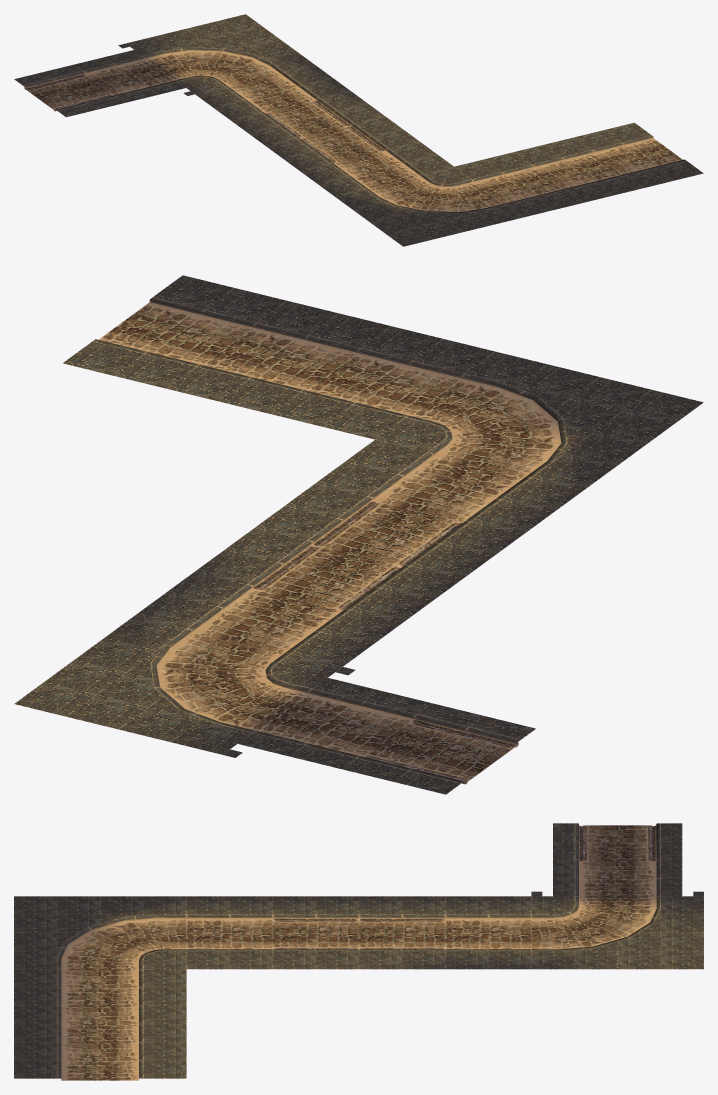
The model's file is M7_Zone3.glb.
3 renders of one model, top to bottom at view 1: azimuth 30°, elevation 25°; view 2: azimuth 150°, elevation 25°; view 3: azimuth 270°, elevation 25°, orthographic. The views are drawn at different scales.
Visible parts, largest first — view 1: M7_ZONE3006, M7_ZONE3004, M7_ZONE3003, M7_ZONE3001, M7_ZONE3, M7_ZONE3005, M7_ZONE3002; view 2: M7_ZONE3, M7_ZONE3003, M7_ZONE3001, M7_ZONE3004, M7_ZONE3006, M7_ZONE3005, M7_ZONE3002; view 3: M7_ZONE3, M7_ZONE3004, M7_ZONE3003, M7_ZONE3006, M7_ZONE3001, M7_ZONE3005, M7_ZONE3002.
Boxes of the visible parts, left/top/right/bottom form: M7_ZONE3006: left=126, top=14, right=314, bottom=94; M7_ZONE3004: left=195, top=65, right=384, bottom=144; M7_ZONE3003: left=264, top=116, right=453, bottom=195; M7_ZONE3001: left=454, top=137, right=643, bottom=217; M7_ZONE3: left=334, top=166, right=523, bottom=246; M7_ZONE3005: left=14, top=43, right=194, bottom=117; M7_ZONE3002: left=575, top=122, right=703, bottom=187; M7_ZONE3: left=375, top=351, right=703, bottom=490; M7_ZONE3003: left=255, top=439, right=583, bottom=578; M7_ZONE3001: left=167, top=300, right=494, bottom=439; M7_ZONE3004: left=134, top=528, right=462, bottom=666; M7_ZONE3006: left=14, top=616, right=342, bottom=754; M7_ZONE3005: left=223, top=667, right=535, bottom=794; M7_ZONE3002: left=63, top=275, right=286, bottom=388; M7_ZONE3: left=14, top=896, right=186, bottom=971; M7_ZONE3004: left=359, top=896, right=531, bottom=969; M7_ZONE3003: left=186, top=896, right=358, bottom=969; M7_ZONE3006: left=531, top=896, right=703, bottom=969; M7_ZONE3001: left=14, top=969, right=186, bottom=1043; M7_ZONE3005: left=531, top=823, right=703, bottom=898; M7_ZONE3002: left=14, top=1042, right=186, bottom=1080.
Bounding box in the file's own units: 28.01 × 0.15 × 32.
Materials: 7 (7 with a texture image).
